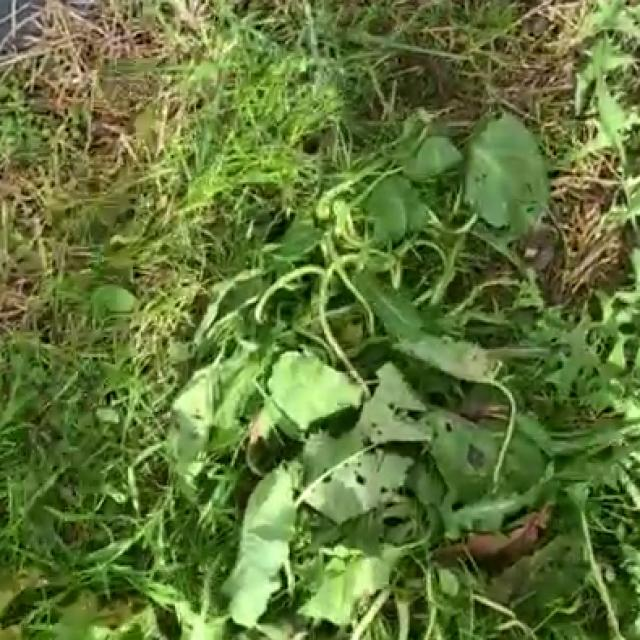organic waste: (183, 184, 626, 626)
